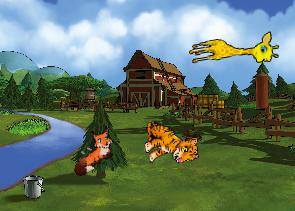fox: (61, 122, 123, 179)
giraffe: (187, 30, 280, 74)
tiger: (141, 117, 199, 167)
